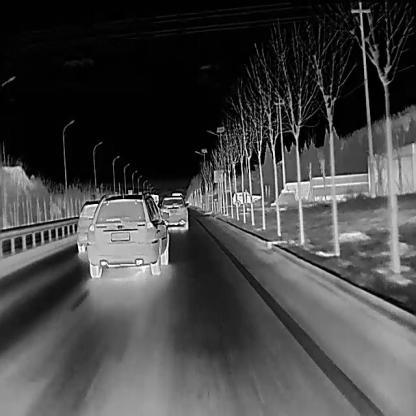car: (85, 192, 169, 278), (75, 198, 108, 259), (155, 195, 188, 230), (231, 190, 262, 206)
